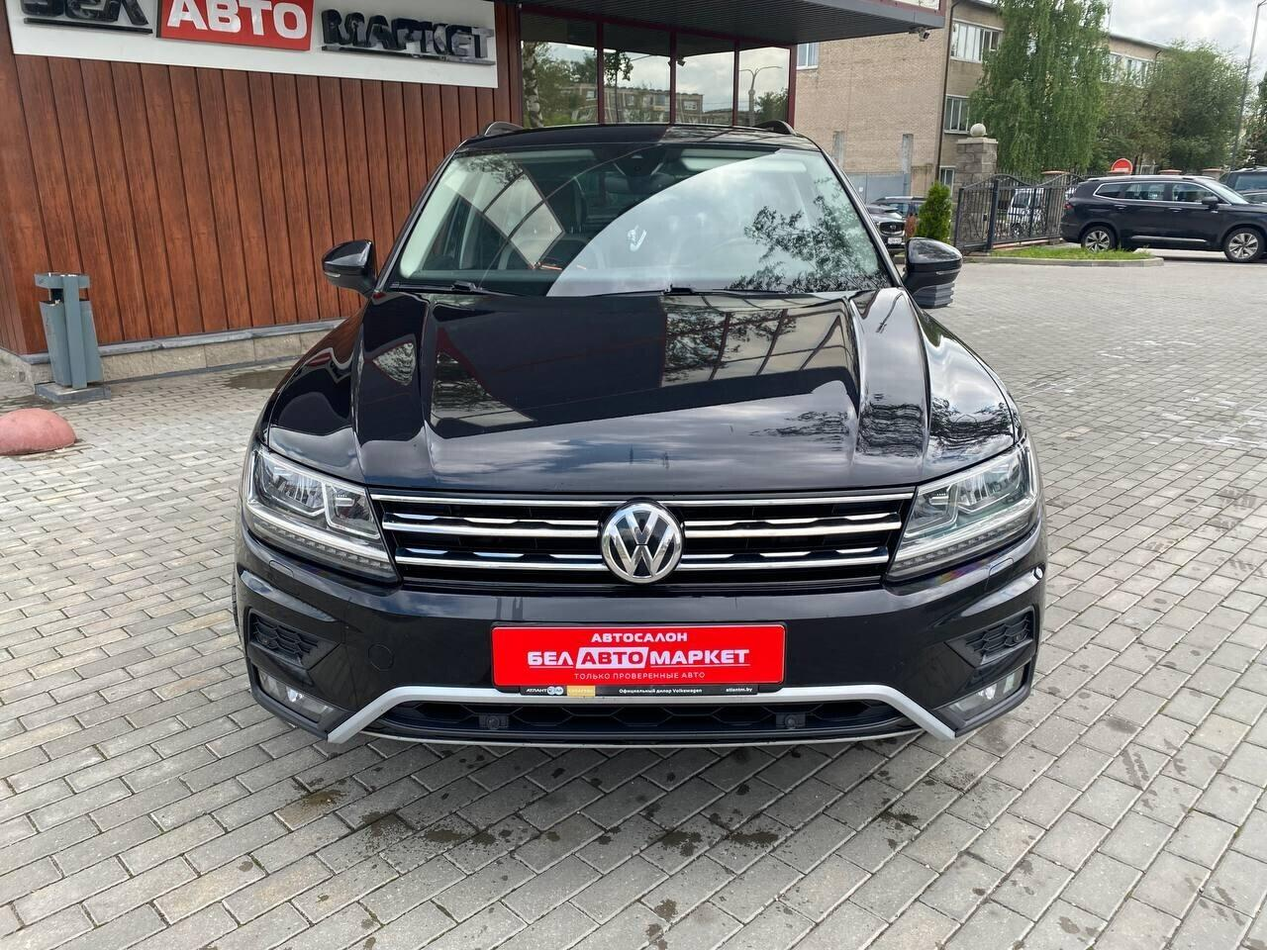Tiguan_2016-2021: (229, 114, 1054, 757)
